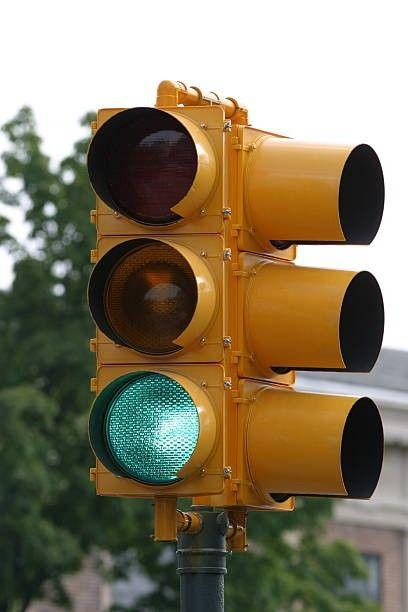Traffic light green: (38, 72, 255, 525)
